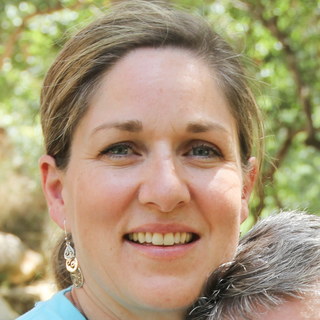eye: (175, 139, 227, 164), (95, 138, 147, 162)
